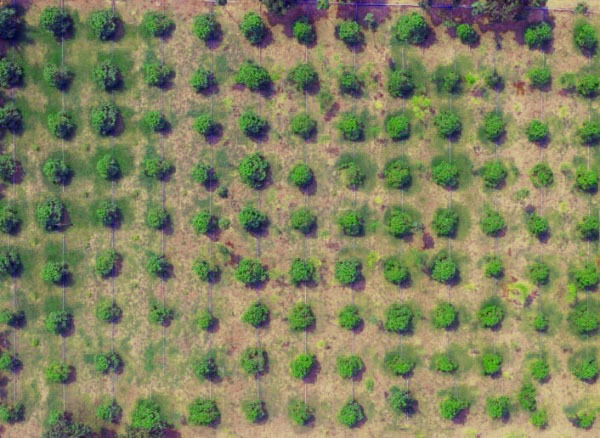TREE: (48, 411, 94, 438), (132, 399, 166, 432), (238, 156, 271, 190), (89, 10, 123, 40), (41, 8, 75, 37), (37, 199, 68, 230), (91, 104, 121, 136), (399, 13, 431, 43), (235, 259, 268, 287), (91, 61, 122, 90), (428, 253, 456, 284), (237, 64, 269, 91), (335, 162, 366, 189), (335, 258, 364, 286), (384, 160, 412, 189), (479, 303, 507, 331), (289, 304, 316, 333), (190, 400, 220, 426), (44, 63, 73, 89), (241, 14, 265, 45), (431, 303, 458, 330), (48, 112, 76, 138), (387, 305, 412, 334), (335, 356, 364, 380), (243, 349, 269, 375), (383, 259, 410, 284), (576, 305, 600, 333), (239, 114, 268, 137), (1, 102, 22, 133), (338, 306, 363, 332), (338, 210, 363, 236), (388, 212, 414, 237), (294, 18, 318, 45), (1, 5, 20, 39), (434, 208, 457, 236), (239, 209, 268, 231), (578, 214, 600, 243), (98, 397, 123, 422), (196, 16, 221, 41), (291, 114, 316, 139), (291, 209, 316, 234), (1, 59, 22, 88), (389, 352, 414, 376), (394, 389, 418, 414), (388, 72, 413, 96), (339, 403, 365, 426), (525, 23, 551, 46), (94, 249, 116, 276), (194, 260, 221, 282), (1, 207, 21, 236), (434, 115, 463, 135), (98, 202, 122, 226), (145, 253, 169, 277), (147, 64, 172, 87), (575, 265, 600, 288), (148, 13, 174, 35), (245, 304, 269, 327), (291, 354, 315, 377), (435, 163, 459, 186), (149, 303, 174, 325), (1, 249, 22, 275), (338, 72, 364, 93), (96, 302, 123, 322), (45, 159, 68, 182), (97, 156, 120, 179), (293, 259, 315, 283), (340, 117, 362, 141), (188, 72, 219, 89), (47, 313, 72, 334), (486, 163, 507, 188), (441, 399, 467, 419), (337, 23, 363, 43), (48, 362, 75, 381), (577, 168, 599, 191), (194, 115, 219, 135), (519, 388, 541, 410), (388, 117, 411, 138), (488, 397, 509, 420), (44, 263, 69, 282), (296, 66, 315, 91), (527, 68, 552, 87), (145, 159, 171, 177), (292, 403, 313, 424), (485, 117, 506, 138), (482, 213, 503, 234), (245, 401, 265, 423), (528, 120, 548, 142), (531, 264, 553, 284), (1, 153, 16, 182), (574, 364, 599, 381), (482, 354, 501, 376), (196, 213, 217, 232), (532, 166, 553, 185), (581, 124, 600, 145), (147, 209, 169, 227), (435, 355, 458, 372), (482, 67, 503, 85), (97, 354, 120, 370), (195, 358, 218, 374), (1, 311, 27, 325), (528, 217, 548, 235), (579, 28, 597, 48), (4, 405, 25, 422), (147, 113, 166, 131), (533, 362, 550, 382), (458, 26, 479, 42), (294, 167, 312, 185), (487, 261, 505, 279), (1, 354, 20, 371), (196, 167, 215, 182), (533, 311, 548, 330), (578, 415, 596, 430), (198, 313, 216, 327), (582, 78, 600, 92), (534, 414, 548, 429), (445, 75, 457, 91)
